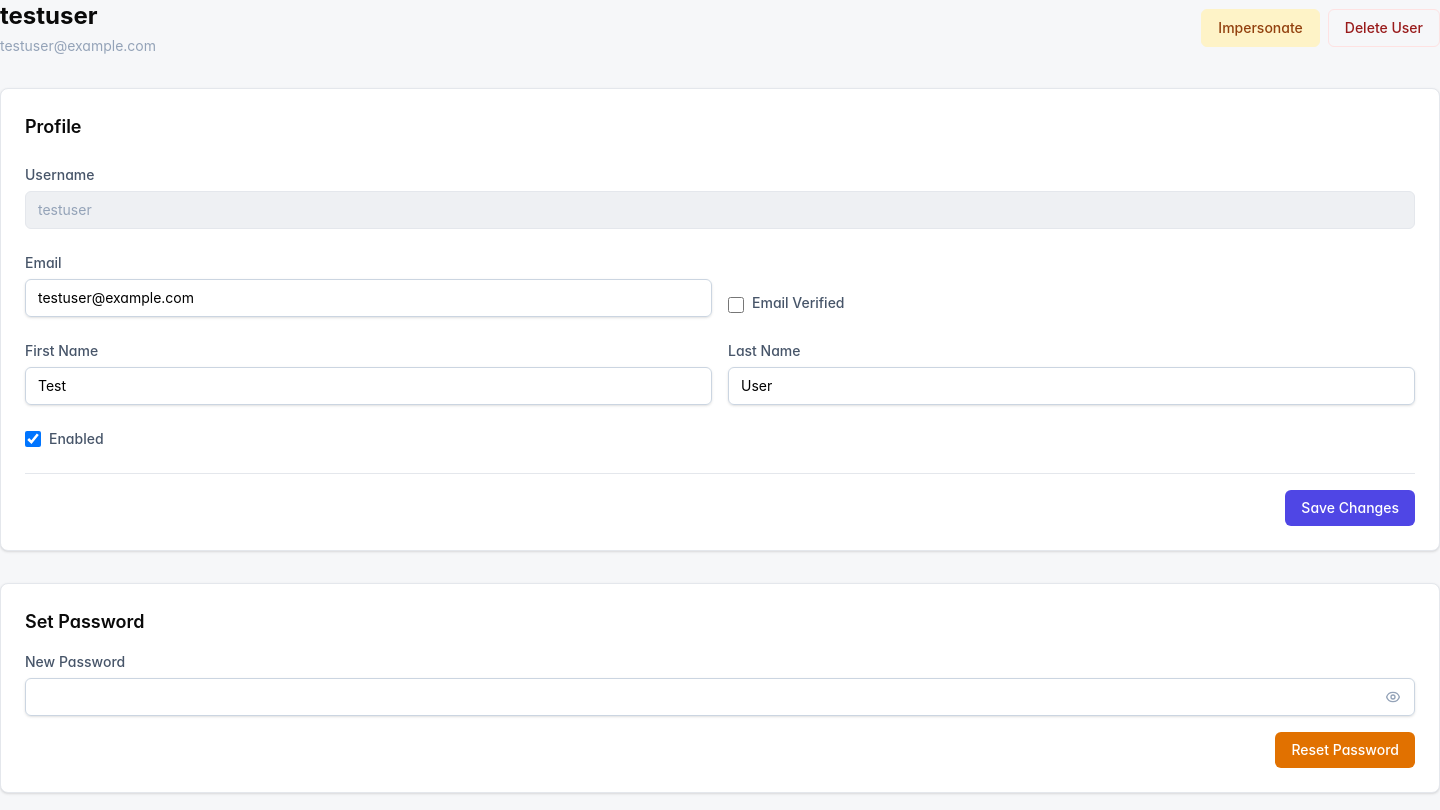
Test case: UserDetailPage › opens the delete confirmation dialog
This screenshot has width=1440, height=810.
Expected: the heading "testuser" is shown, left=0, top=1, right=98, bottom=30
What coordinates should you click on to do the following:
click the button "Delete User"
I would click on:
 (1384, 28)
Its box is left=1328, top=9, right=1439, bottom=47.
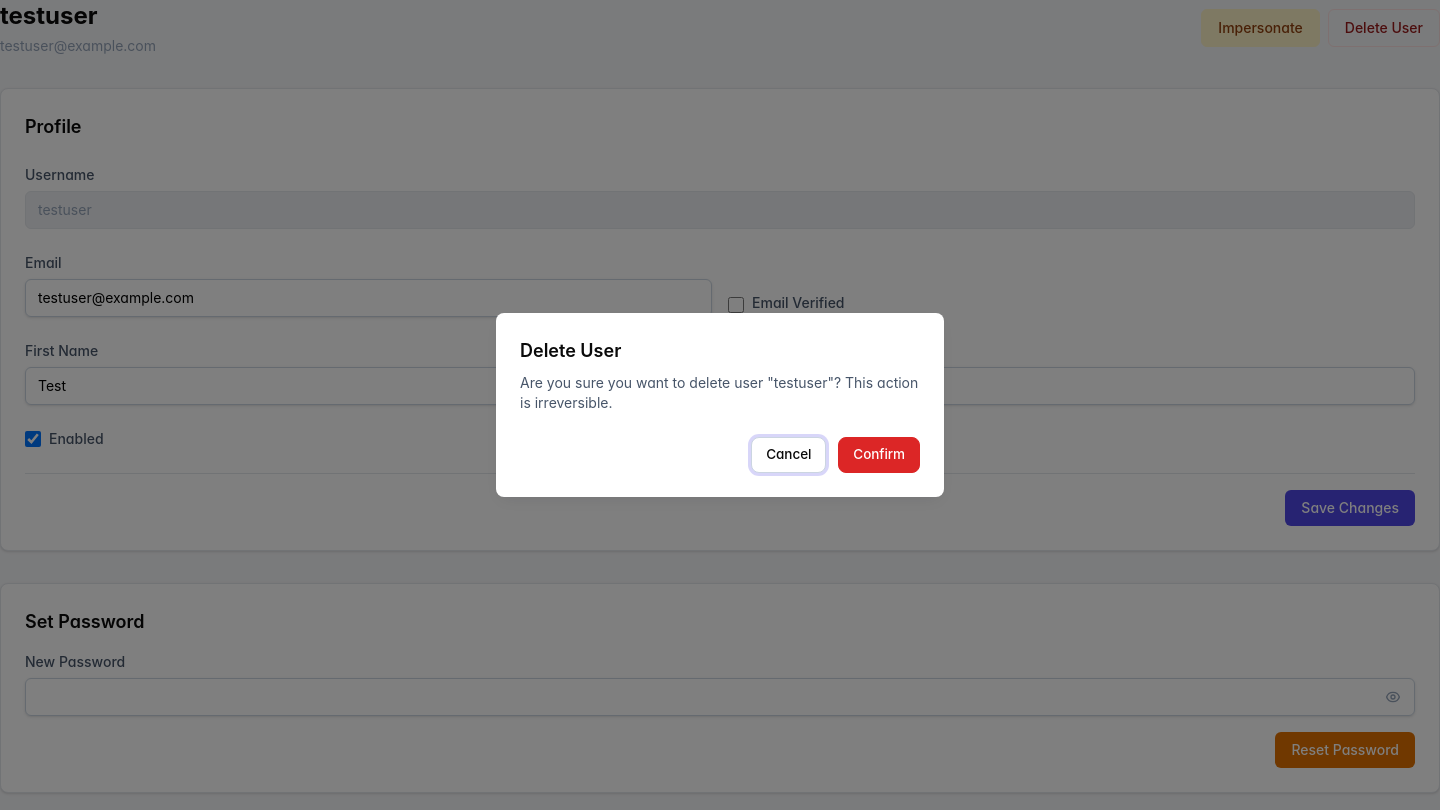
Expected: the text "Are you sure you want to delete user \"testuser\"" is shown, left=520, top=374, right=918, bottom=411
